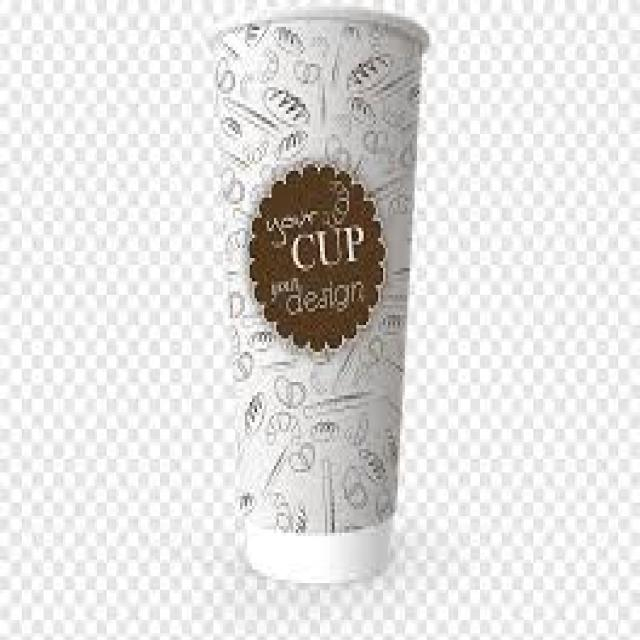PaperCardboard: (201, 7, 425, 582)
